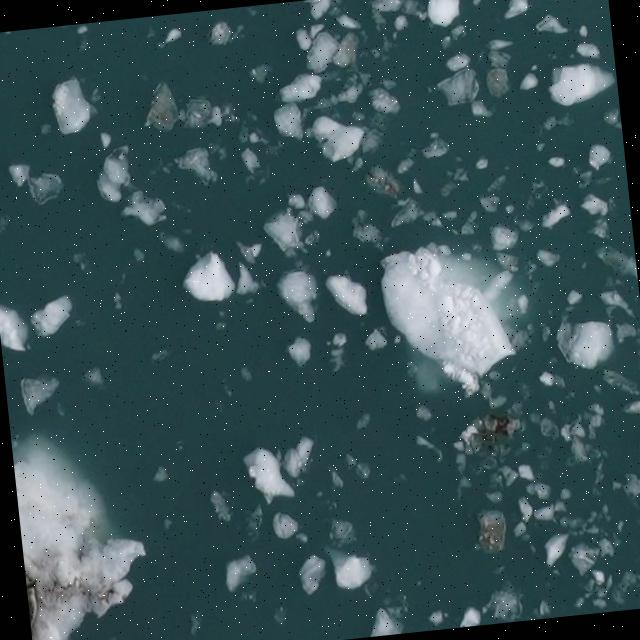seal: (26, 574, 39, 630)
